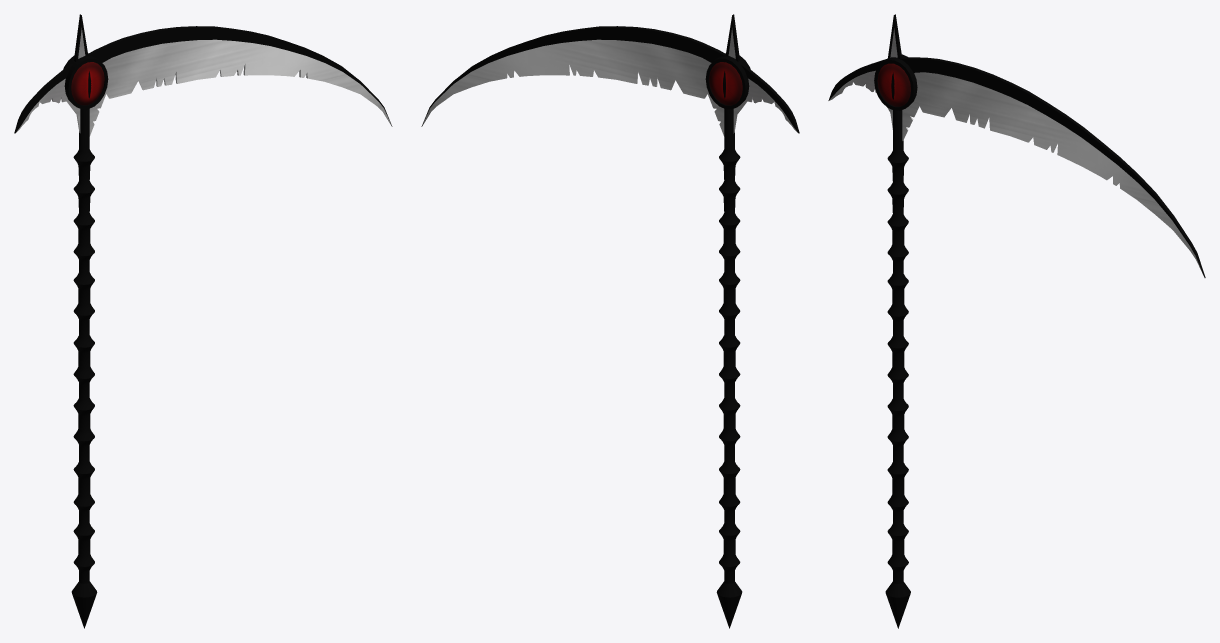
File: Grim_weapon.glb
3 renders of one model, left to right at view 1: azimuth 30°, elevation 25°; view 2: azimuth 150°, elevation 25°; view 3: azimuth 330°, elevation 25°, orthographic.
Visible parts, largest first — view 1: staf_scuthe_copie1_demon_scythe_staf_0; view 2: staf_scuthe_copie1_demon_scythe_staf_0; view 3: staf_scuthe_copie1_demon_scythe_staf_0.
Boxes of the visible parts, <box> form: staf_scuthe_copie1_demon_scythe_staf_0: <box>14,14,392,628</box>; staf_scuthe_copie1_demon_scythe_staf_0: <box>421,14,799,628</box>; staf_scuthe_copie1_demon_scythe_staf_0: <box>828,14,1205,628</box>.
Bounding box in the file's own units: 1.55 × 2.41 × 0.091.
2 materials, 2 textured.
